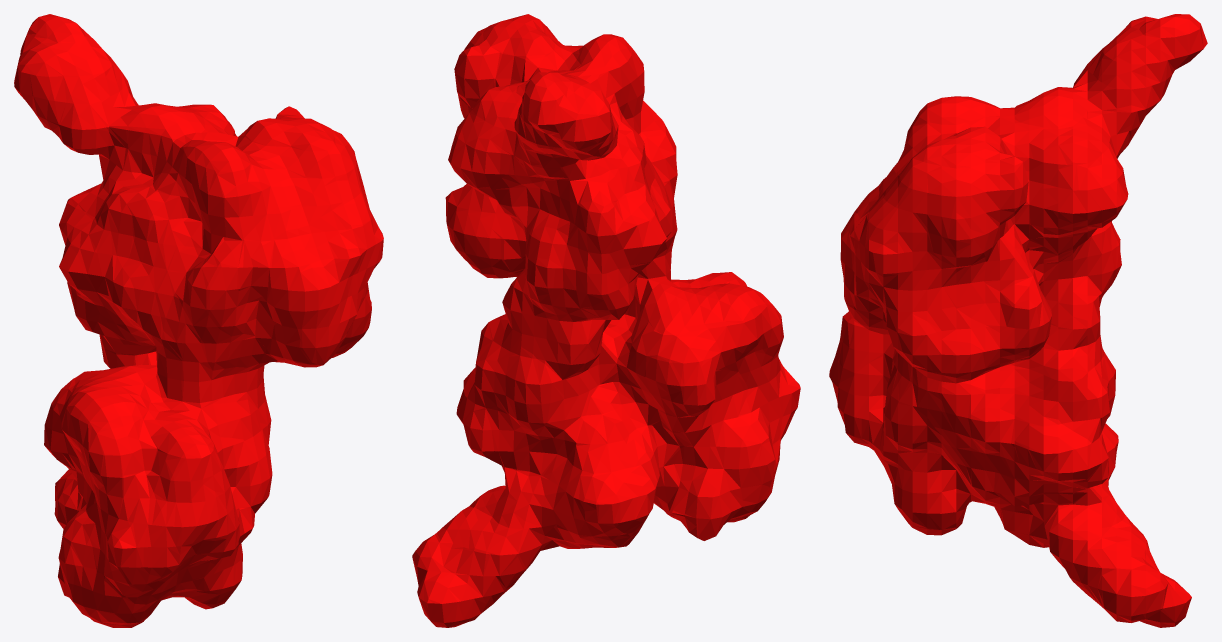
The model's file is ettA_coarse.dae.
3 renders of one model, left to right at view 1: azimuth 30°, elevation 25°; view 2: azimuth 150°, elevation 25°; view 3: azimuth 270°, elevation 25°, orthographic. The views are drawn at different scales.
Visible parts, largest first — view 1: ettA; view 2: ettA; view 3: ettA.
Part boxes in pixels (left/top/right/bottom): ettA: left=14, top=14, right=383, bottom=627; ettA: left=412, top=14, right=800, bottom=627; ettA: left=829, top=14, right=1207, bottom=627.
Bounding box in the file's own units: 76.96 × 139 × 84.92.
